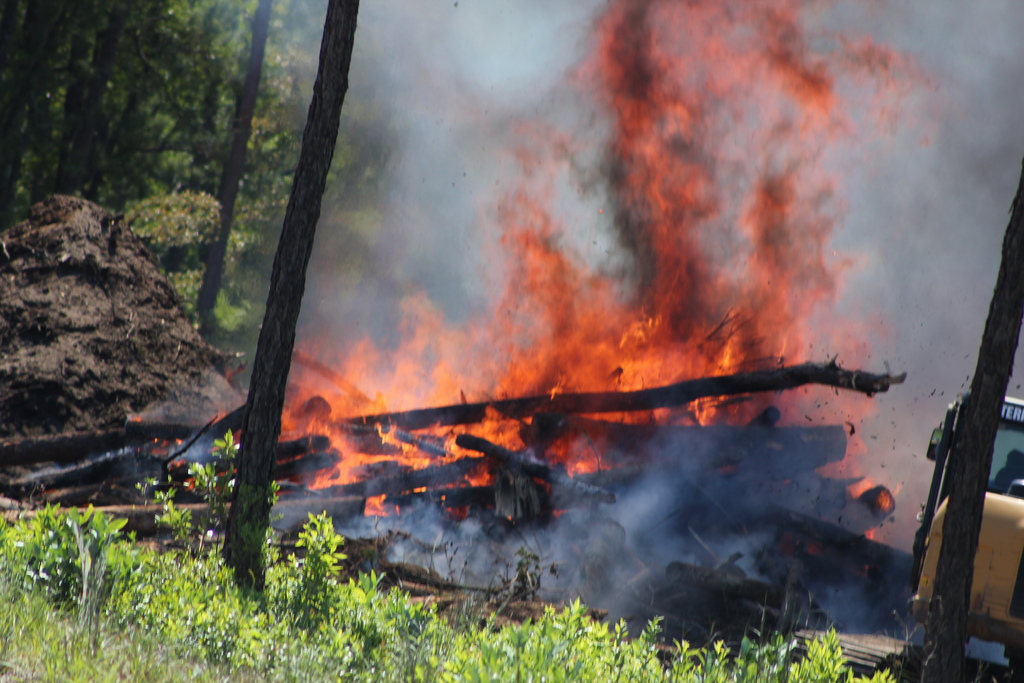fire: (211, 94, 953, 639)
